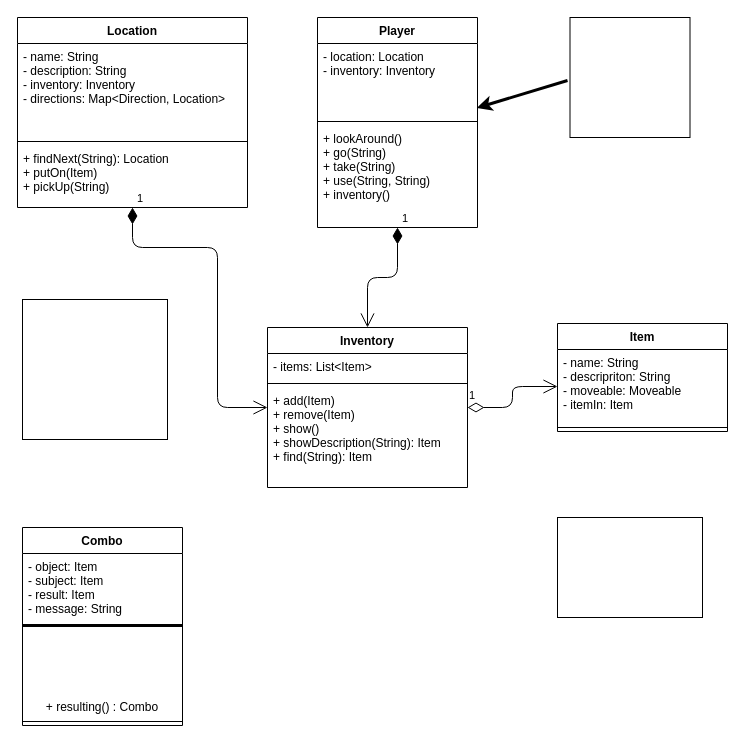
Image size: 745x743. Some labels were removed from this diagram. Each missing label, with the centre of its shape:
<<Enumeration>> Direction UP DOWN WEST EAST NORTH SOUTH: the point at 95,369
<<Enumeration>> Moveable STATIONARY MOBILE: the point at 629,567
Actions +action(Player): the point at 629,77
